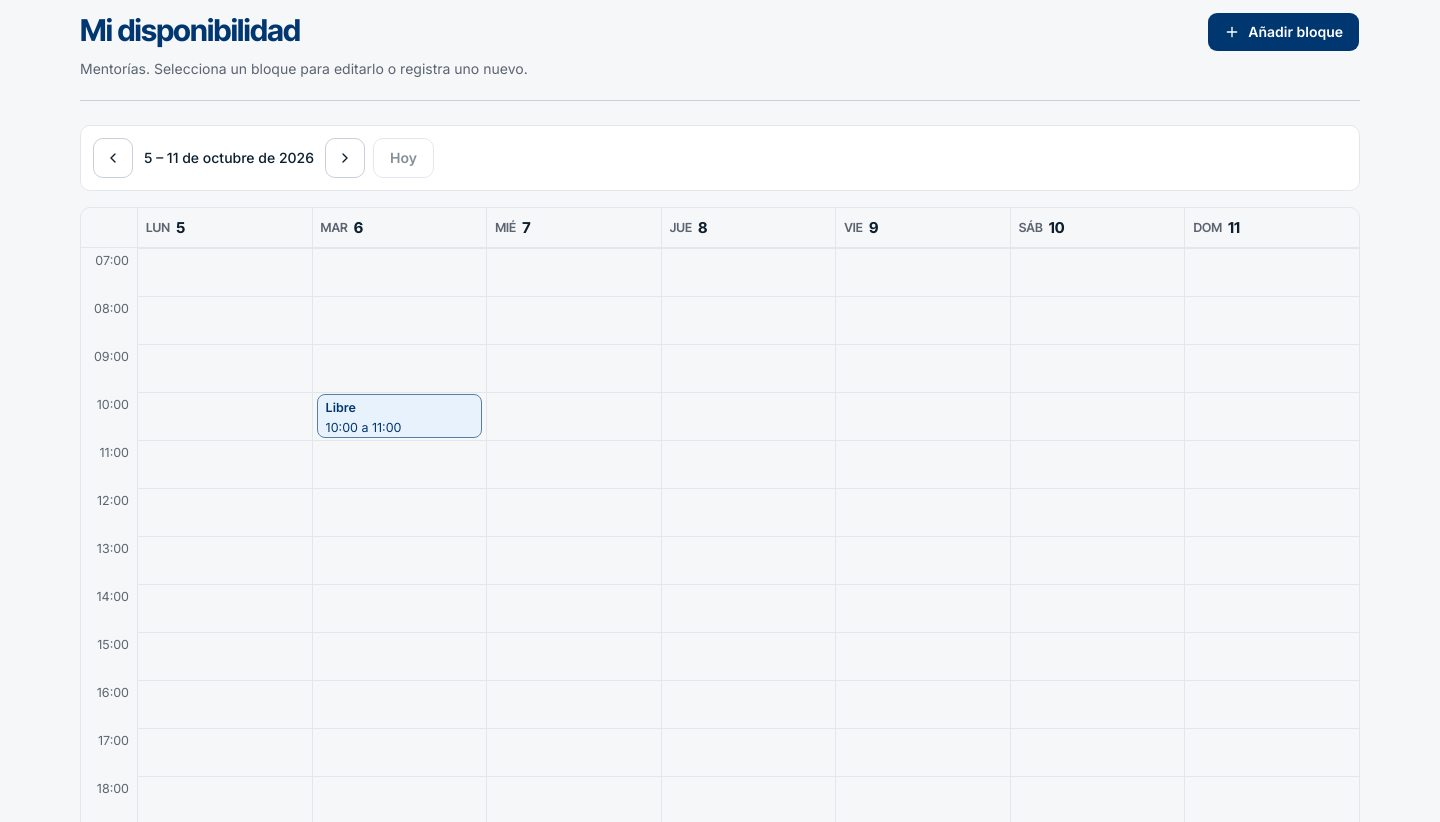
MentorAvailabilityView › al pasar a una semana sin bloques sigue mostrando la grilla con las fechas de esa semana
Expected: the button with aria-label "libre, 10:00 a 11:00" is shown, [317,394,482,438]
Click the button named "Semana siguiente". click: (345, 158)
box: [325,138,365,178]
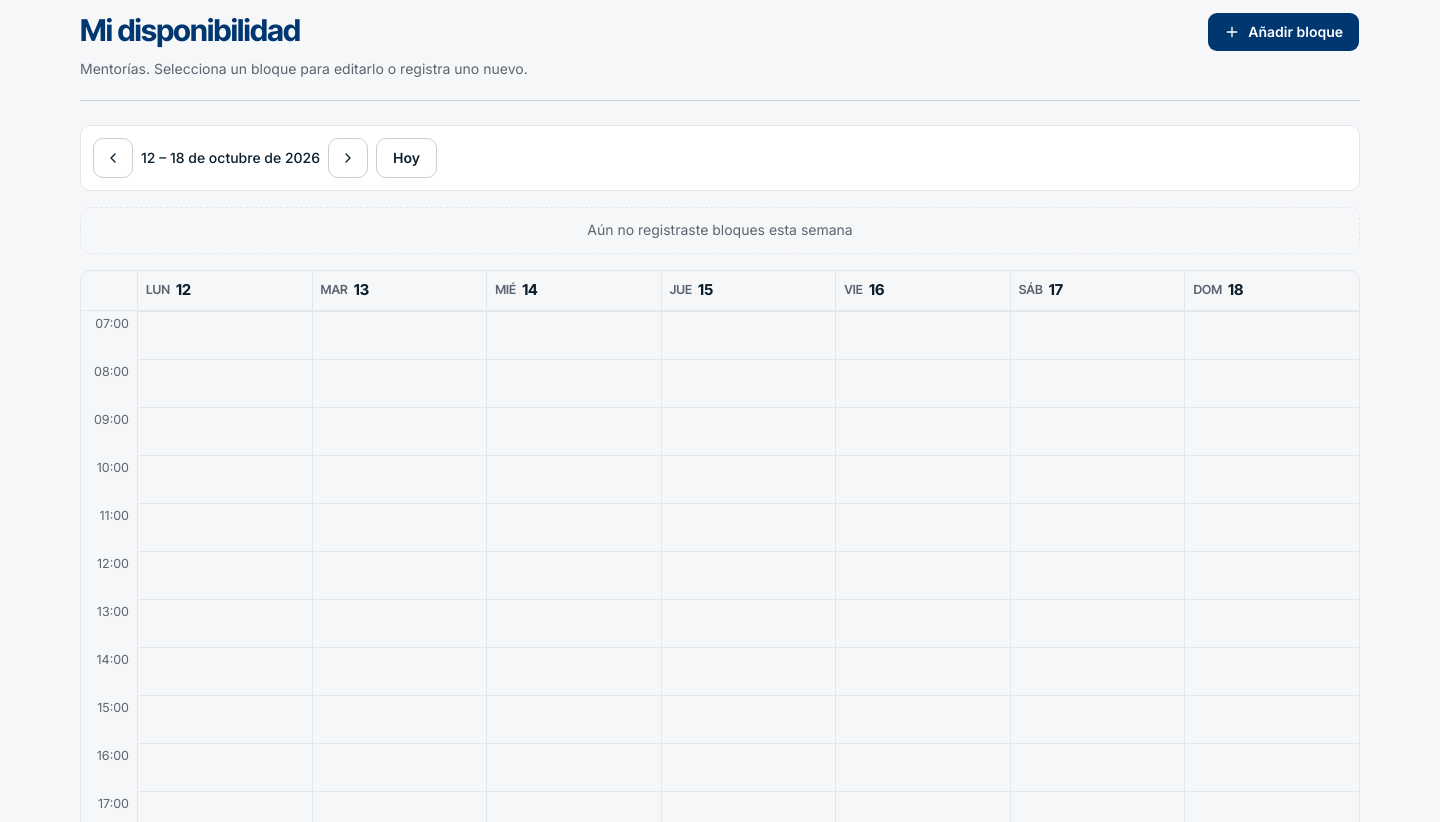
Now the text "Aún no registraste bloques esta semana" is shown, box [80,207,1360,254]
Now the heading "LUN 12" is shown, box [138,270,312,310]
Now the heading "DOM 18" is shown, box [1185,270,1359,310]
